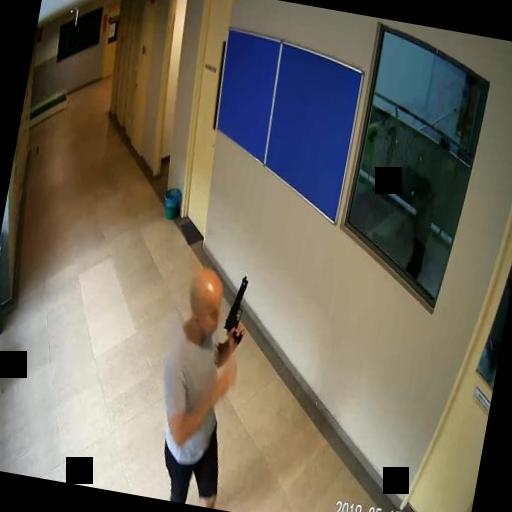Handgun: (220, 272, 252, 342)
